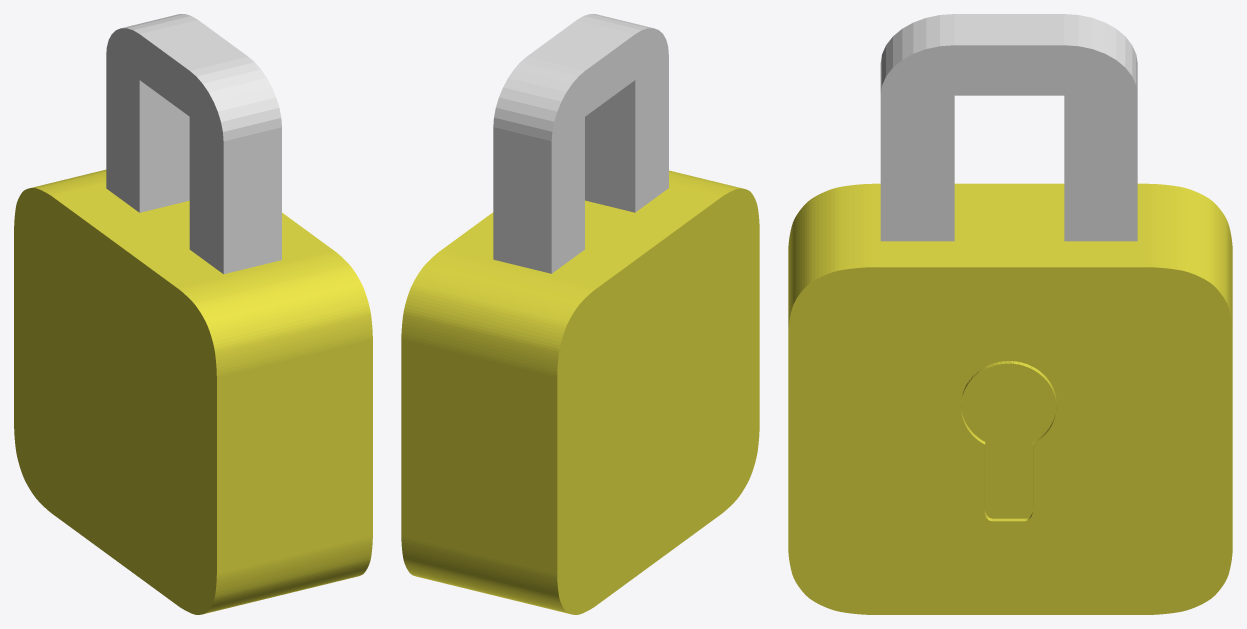
File: lock.fbx
The picture shows the model from 3 angles, left to right: view 1: azimuth 30°, elevation 25°; view 2: azimuth 150°, elevation 25°; view 3: azimuth 270°, elevation 25°; orthographic projection. The views are drawn at different scales.
Parts seen in each view (by area): view 1: Cube, Cube.001; view 2: Cube, Cube.001; view 3: Cube, Cube.001, Cube.002.
Boxes of the visible parts, left/top/right/bottom form: Cube: left=14, top=169, right=372, bottom=614; Cube.001: left=106, top=14, right=281, bottom=274; Cube: left=401, top=170, right=759, bottom=614; Cube.001: left=493, top=14, right=668, bottom=273; Cube: left=788, top=183, right=1232, bottom=614; Cube.001: left=880, top=14, right=1137, bottom=241; Cube.002: left=961, top=361, right=1056, bottom=521.
Bounding box in the file's own units: 91.7 × 270 × 200.
